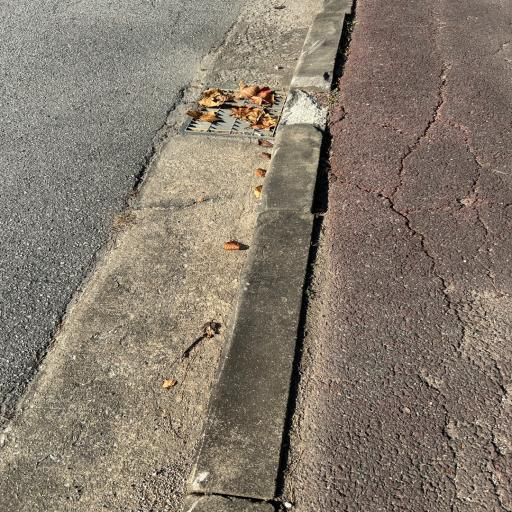debris: (280, 92, 287, 101), (198, 126, 206, 130)
drain: (192, 88, 292, 136)
